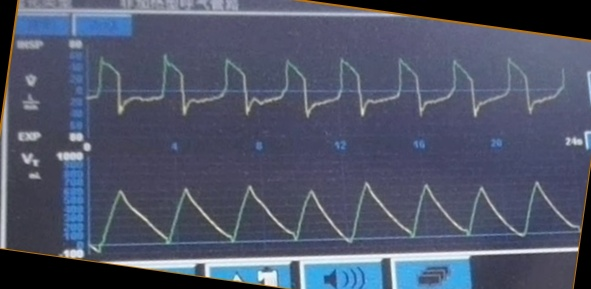Premature_cycling Flow: (90, 51, 568, 132)
Premature_cycling Volume: (92, 174, 579, 246)
